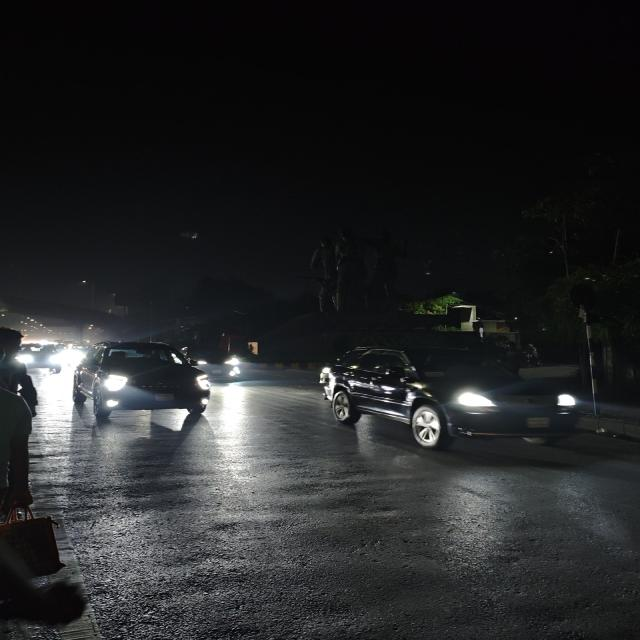car: (314, 335, 582, 463), (70, 339, 217, 431), (190, 344, 242, 381), (22, 342, 63, 374)
